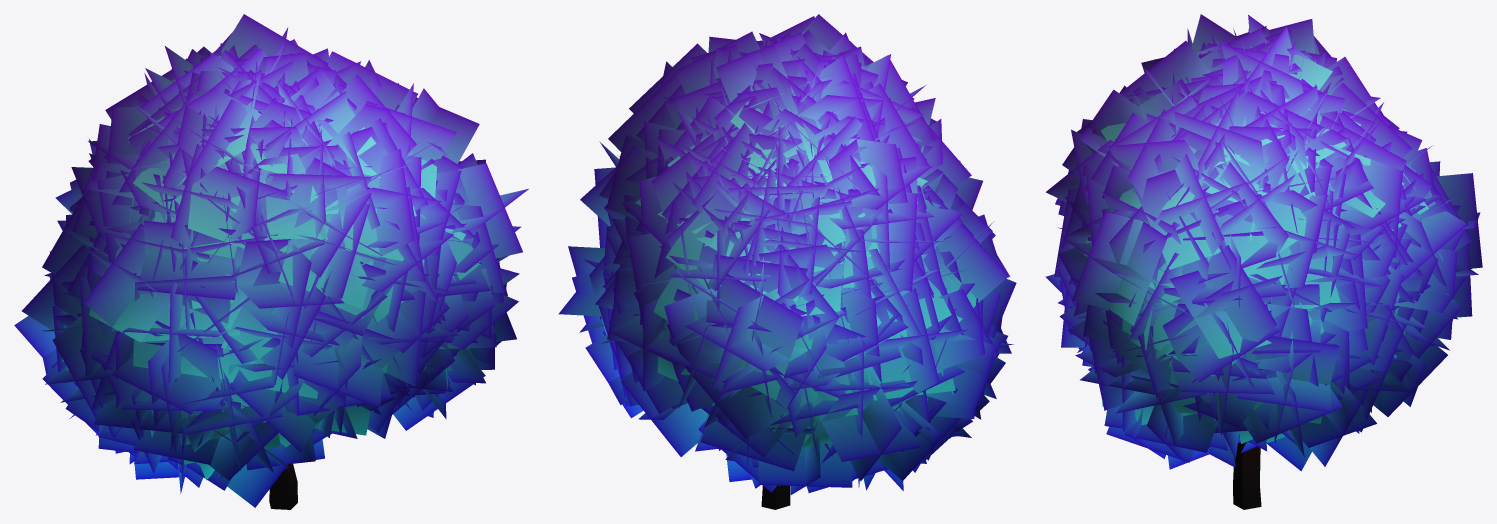
Rendered from SM_Env_Bush_01.FBX.
3 renders of one model, left to right at view 1: azimuth 30°, elevation 25°; view 2: azimuth 150°, elevation 25°; view 3: azimuth 270°, elevation 25°, orthographic. The views are drawn at different scales.
Visible parts, largest first — view 1: SM_Env_Bush_01; view 2: SM_Env_Bush_01; view 3: SM_Env_Bush_01.
Boxes of the visible parts, box(x1,y1,x2,y2) form: SM_Env_Bush_01: box(14, 14, 528, 509); SM_Env_Bush_01: box(558, 14, 1016, 509); SM_Env_Bush_01: box(1045, 14, 1482, 509).
Bounding box in the file's own units: 268 × 244 × 288.
